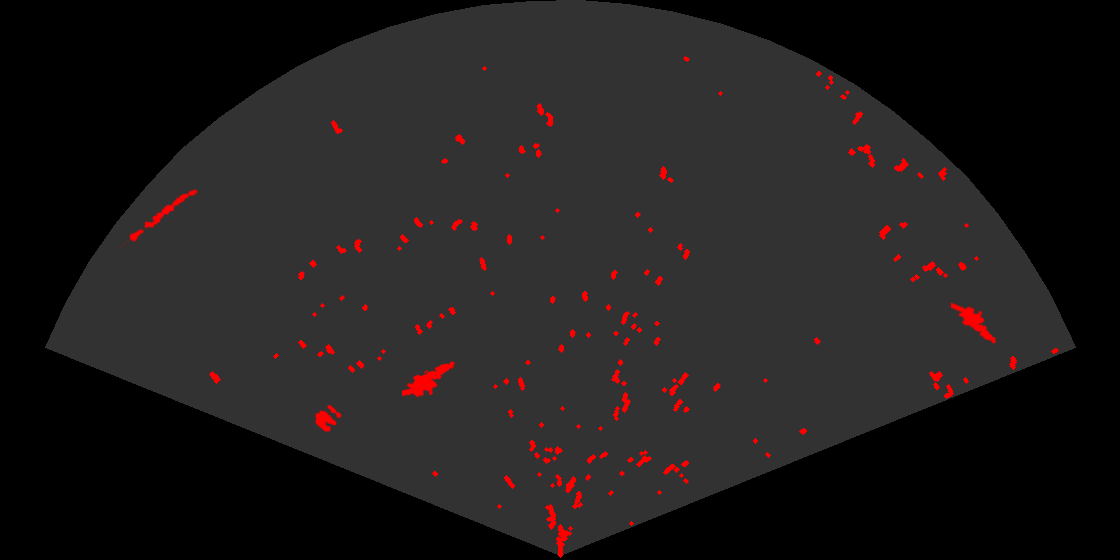ball: (313, 403, 343, 433)
chain: (118, 188, 199, 248)
frogman: (951, 301, 1007, 347), (402, 360, 457, 399)
